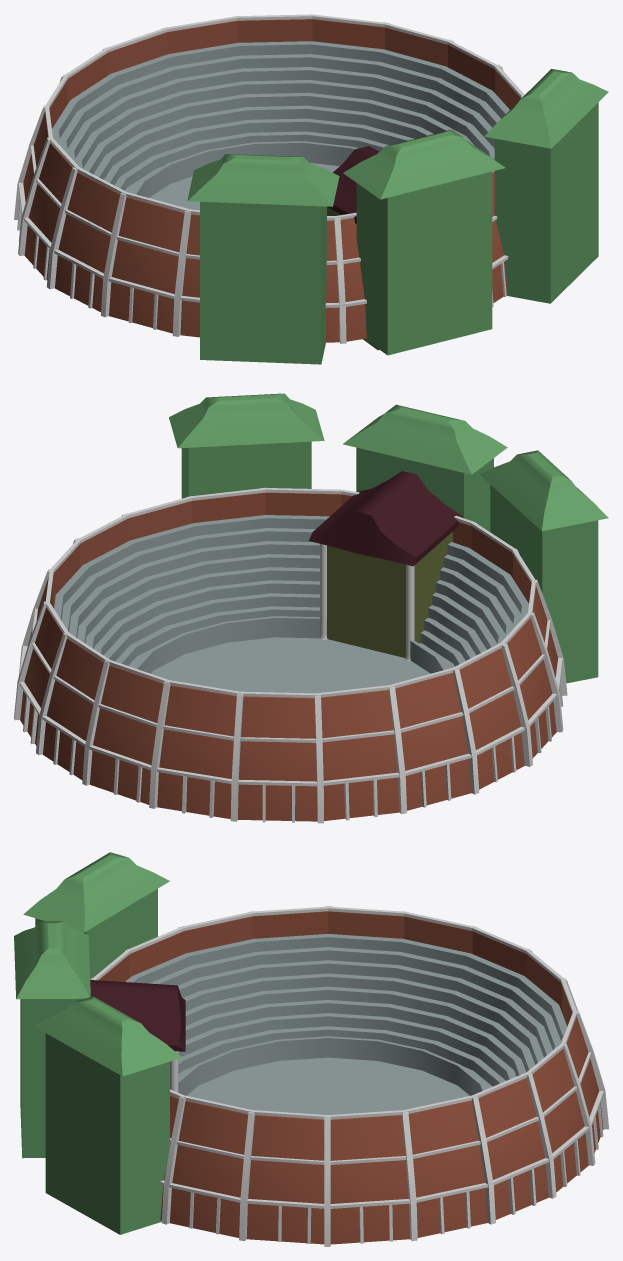
Rendered from fnal.fbx.
3 renders of one model, top to bottom at view 1: azimuth 30°, elevation 25°; view 2: azimuth 150°, elevation 25°; view 3: azimuth 270°, elevation 25°, orthographic. The views are drawn at different scales.
Parts seen in each view (by area): view 1: polySurface13; view 2: polySurface13; view 3: polySurface13.
Boxes of the visible parts, left/top/right/bottom form: polySurface13: left=14, top=14, right=608, bottom=364; polySurface13: left=14, top=393, right=608, bottom=823; polySurface13: left=14, top=852, right=608, bottom=1246.
Size of the model in its own units: 4.52 by 1.81 by 4.78.
